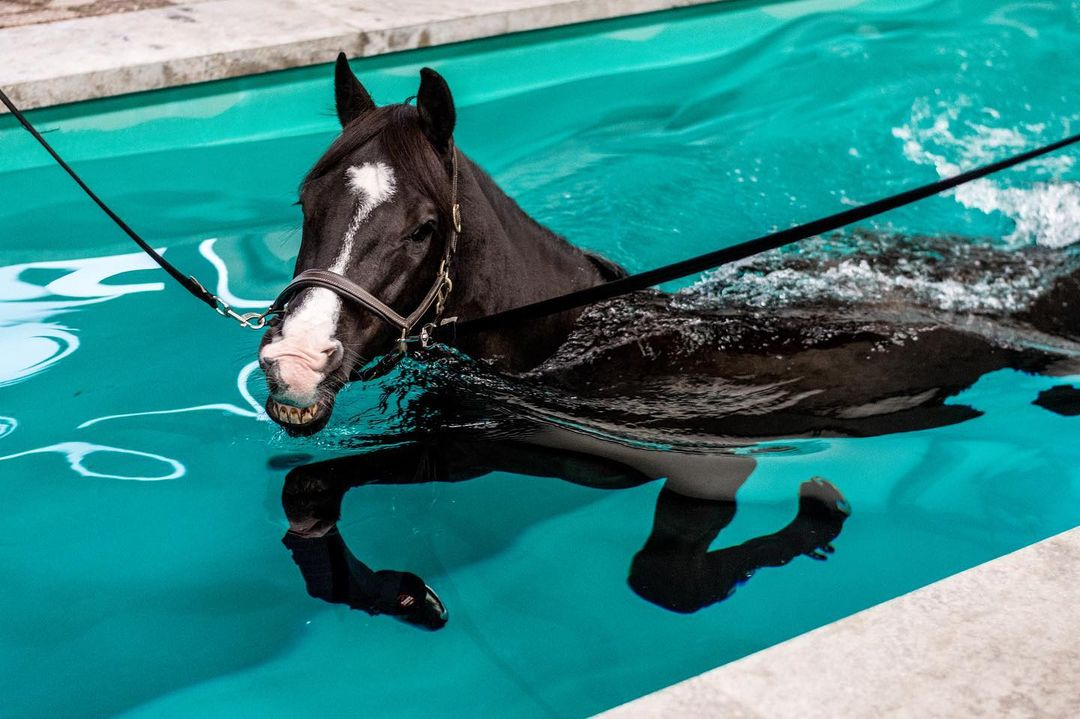Horse: (226, 59, 1026, 629)
